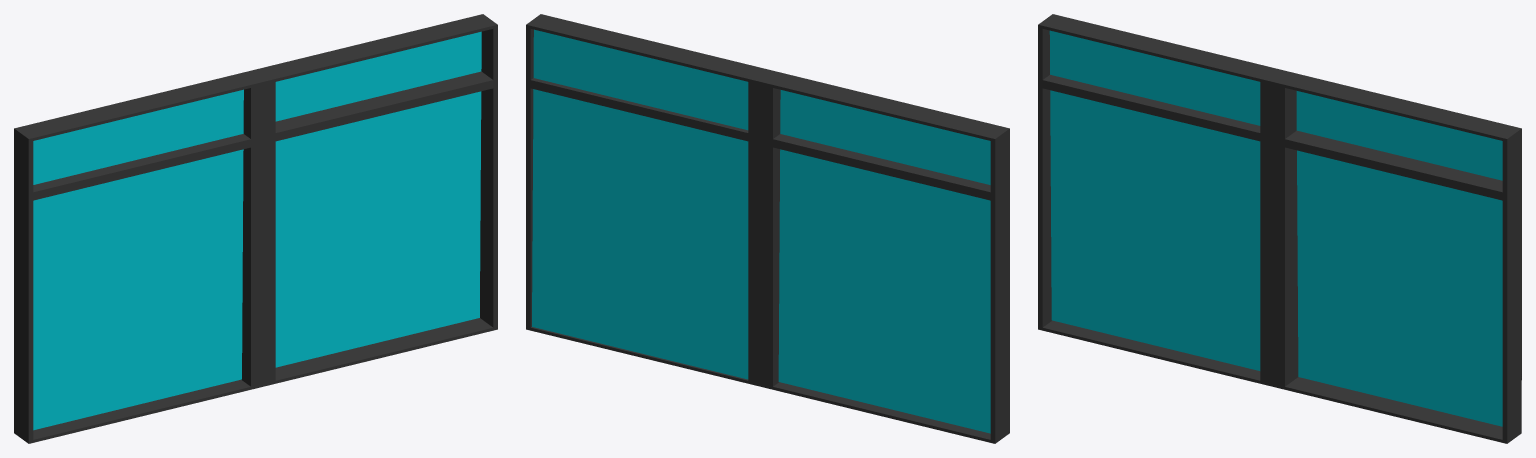
File: Glass Window2 .fbx
The picture shows the model from 3 angles, left to right: view 1: azimuth 30°, elevation 25°; view 2: azimuth 150°, elevation 25°; view 3: azimuth 330°, elevation 25°; orthographic projection.
Parts seen in each view (by area): view 1: Plane.004, Plane.009, Cube.021; view 2: Plane.009, Plane.004, Cube.021; view 3: Plane.004, Plane.009, Cube.021.
Boxes of the visible parts, x1,y1,x2,y2 form: Plane.004: (33,89,243,430); Plane.009: (275,31,481,367); Cube.021: (14,14,497,443); Plane.009: (532,29,748,379); Plane.004: (778,90,990,433); Cube.021: (526,14,1009,443); Plane.004: (1049,30,1260,370); Plane.009: (1296,91,1502,426); Cube.021: (1038,14,1521,443).
Bounding box in the file's own units: 436 × 271 × 23.57.
